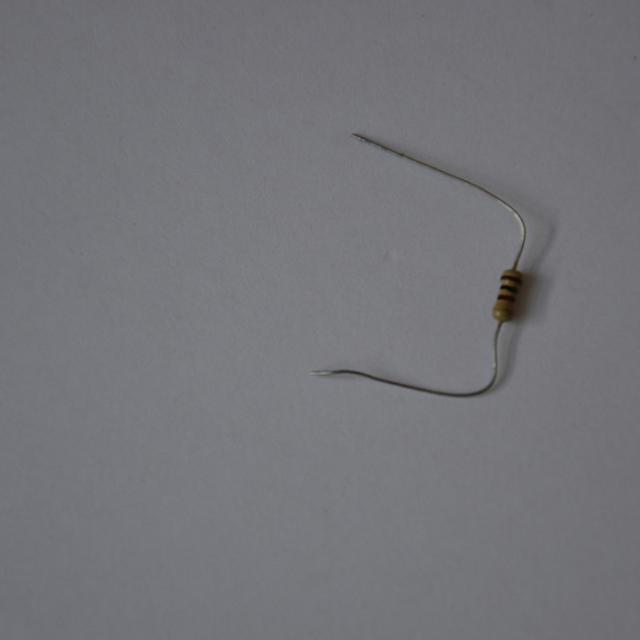black: (501, 285, 515, 291)
brown: (500, 275, 520, 283), (497, 294, 513, 300)
gold: (493, 305, 511, 312)
resistor: (483, 260, 531, 326)
